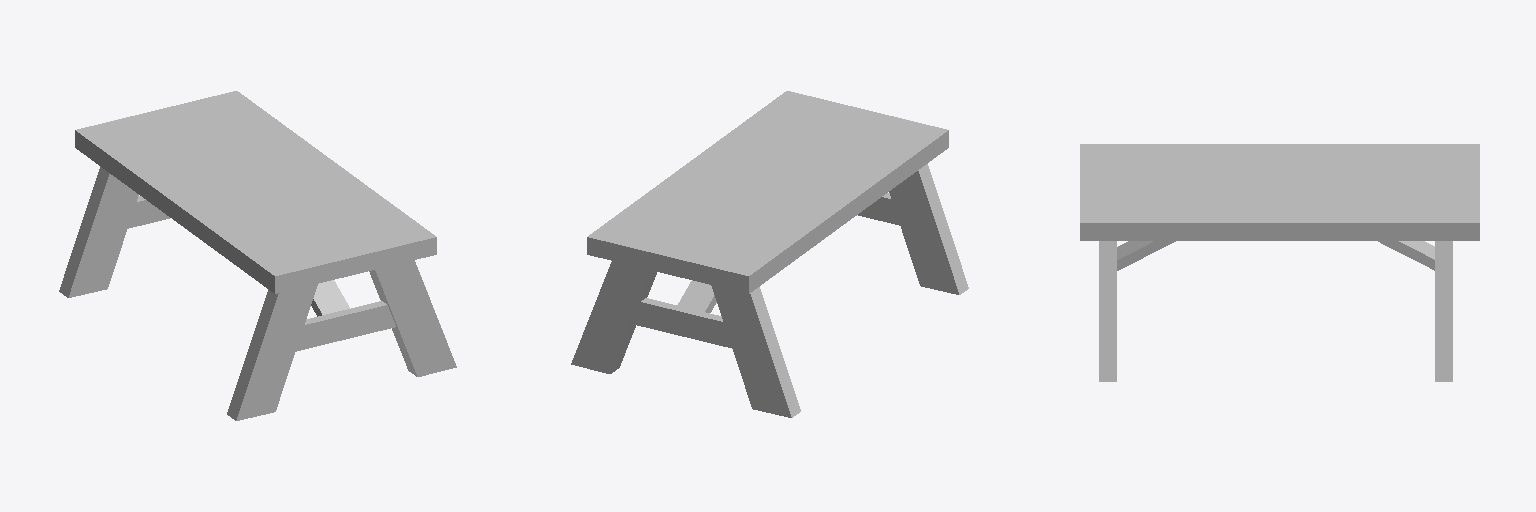
File: table.obj
3 views of the same model, side by side, from view 1: azimuth 30°, elevation 25°; view 2: azimuth 150°, elevation 25°; view 3: azimuth 270°, elevation 25° (orthographic).
Parts seen in each view (by area): view 1: Cube.004, Cube, Cube.003, Cube.001, Cube.005, Cube.007, Cube.006; view 2: Cube.004, Cube.003, Cube, Cube.002, Cube.006, Cube.008, Cube.005; view 3: Cube.004, Cube.001, Cube.002, Cube.007, Cube.008.
Boxes of the visible parts, x1=… form: Cube.004: x1=75, y1=91, x2=436, y2=293; Cube: x1=227, y1=284, x2=317, y2=420; Cube.003: x1=59, y1=166, x2=138, y2=297; Cube.001: x1=369, y1=260, x2=456, y2=376; Cube.005: x1=296, y1=301, x2=395, y2=351; Cube.007: x1=311, y1=280, x2=349, y2=316; Cube.006: x1=128, y1=196, x2=169, y2=228; Cube.004: x1=587, y1=91, x2=948, y2=293; Cube.003: x1=711, y1=285, x2=800, y2=417; Cube: x1=889, y1=164, x2=968, y2=294; Cube.002: x1=571, y1=261, x2=656, y2=373; Cube.006: x1=632, y1=298, x2=731, y2=347; Cube.008: x1=678, y1=280, x2=716, y2=312; Cube.005: x1=858, y1=193, x2=899, y2=225; Cube.004: x1=1080, y1=144, x2=1479, y2=240; Cube.001: x1=1099, y1=241, x2=1116, y2=381; Cube.002: x1=1435, y1=241, x2=1452, y2=381; Cube.007: x1=1117, y1=241, x2=1175, y2=270; Cube.008: x1=1378, y1=241, x2=1434, y2=270.
Size of the model in its own units: 3.29 by 2.07 by 5.17.